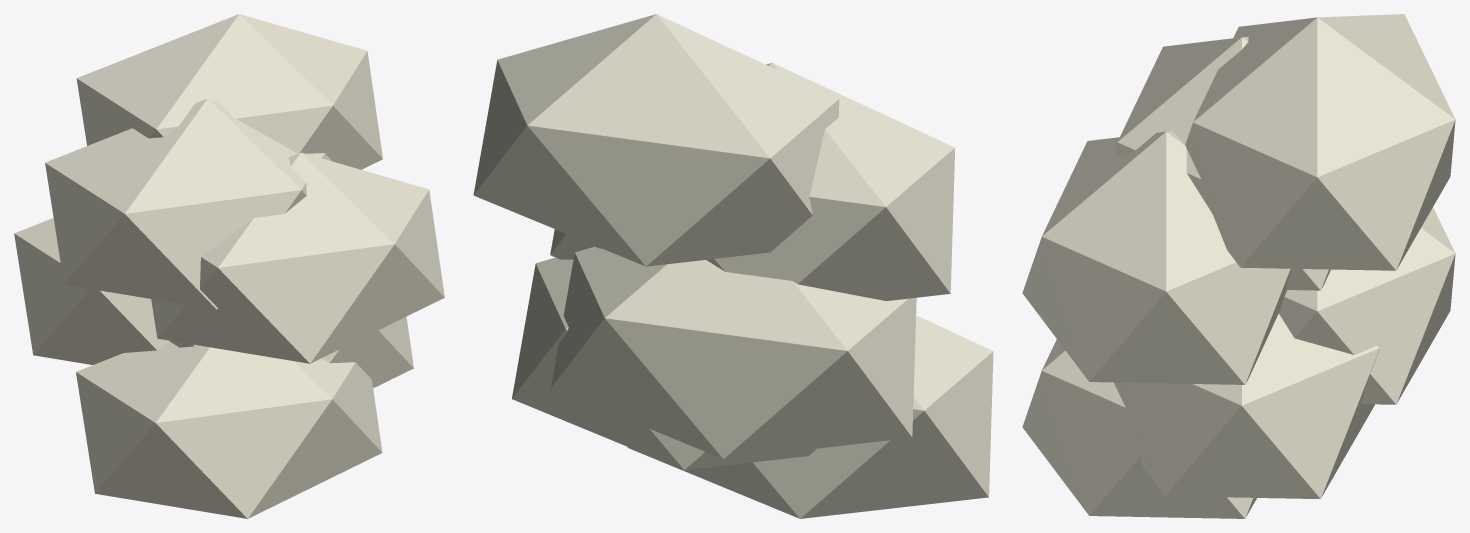
The model's file is item_095_lime_l.glb.
3 renders of one model, left to right at view 1: azimuth 30°, elevation 25°; view 2: azimuth 150°, elevation 25°; view 3: azimuth 270°, elevation 25°, orthographic. The views are drawn at different scales.
Parts seen in each view (by area): view 1: item_095_lime_l; view 2: item_095_lime_l; view 3: item_095_lime_l.
Part boxes in pixels (x1,y1,x2,y2): item_095_lime_l: (14, 14, 444, 518); item_095_lime_l: (473, 14, 993, 518); item_095_lime_l: (1022, 14, 1455, 518).
Size of the model in its own units: 0.375 by 0.455 by 0.3438.
